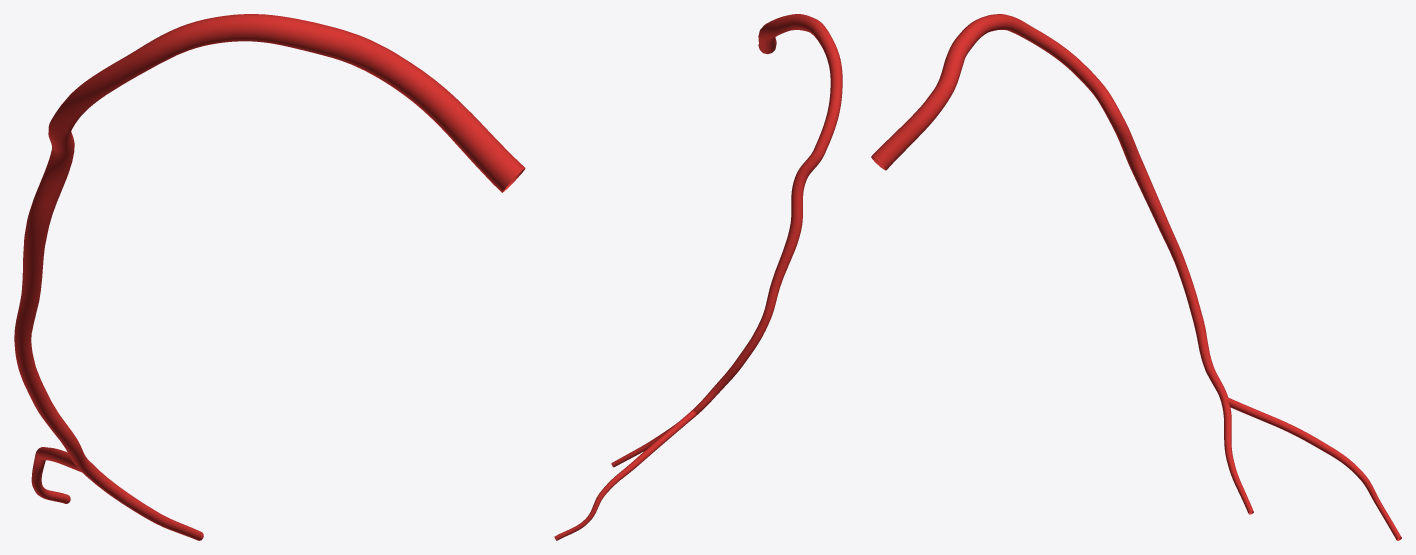
File: circulatorio-temporal-branches-of-middle-cerebral-artery-r.glb
3 views of the same model, side by side, from view 1: azimuth 30°, elevation 25°; view 2: azimuth 150°, elevation 25°; view 3: azimuth 270°, elevation 25° (orthographic). The views are drawn at different scales.
Visible parts, largest first — view 1: Temporal branches of middle cerebral artery.r; view 2: Temporal branches of middle cerebral artery.r; view 3: Temporal branches of middle cerebral artery.r.
Boxes of the visible parts, bbox=[...] form: Temporal branches of middle cerebral artery.r: bbox=[14, 14, 525, 540]; Temporal branches of middle cerebral artery.r: bbox=[554, 14, 842, 540]; Temporal branches of middle cerebral artery.r: bbox=[871, 14, 1401, 540].
Bounding box in the file's own units: 0.0182 × 0.0449 × 0.0455.
